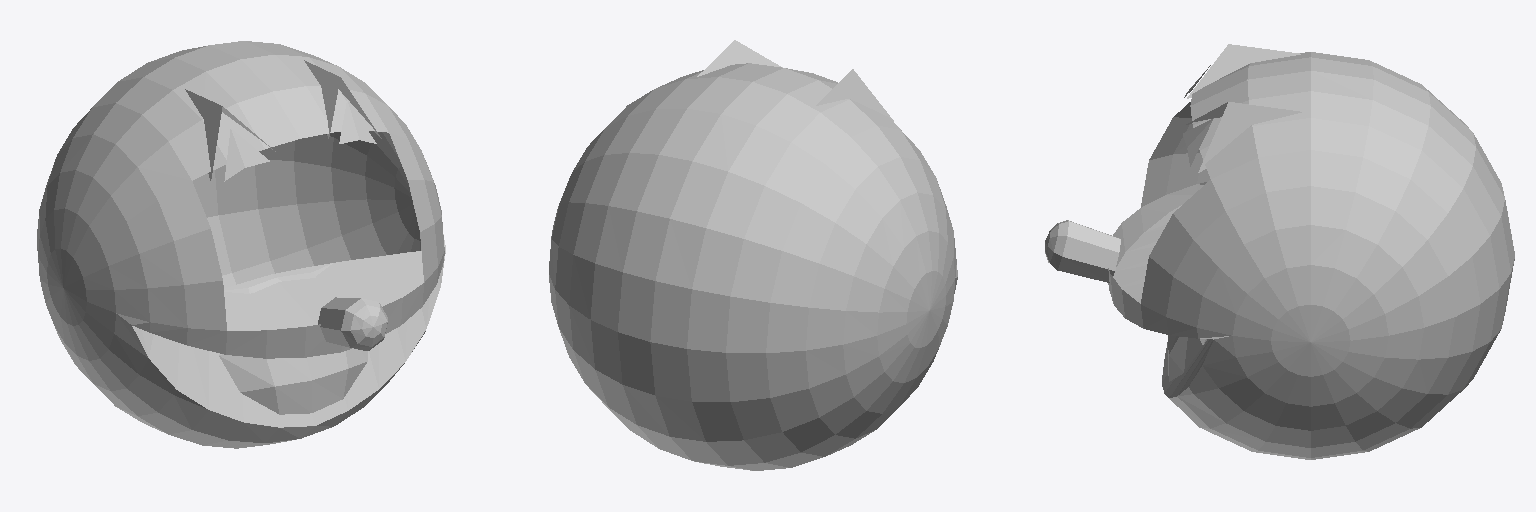
The model's file is pac_body.obj.
3 renders of one model, left to right at view 1: azimuth 30°, elevation 25°; view 2: azimuth 150°, elevation 25°; view 3: azimuth 270°, elevation 25°, orthographic.
Visible parts, largest first — view 1: polygon22; view 2: polygon22; view 3: polygon22.
Boxes of the visible parts, x1,y1,x2,y2 form: polygon22: [37, 41, 445, 448]; polygon22: [549, 40, 957, 470]; polygon22: [1045, 44, 1514, 459].
Bounding box in the file's own units: 31.11 × 31.11 × 35.78.